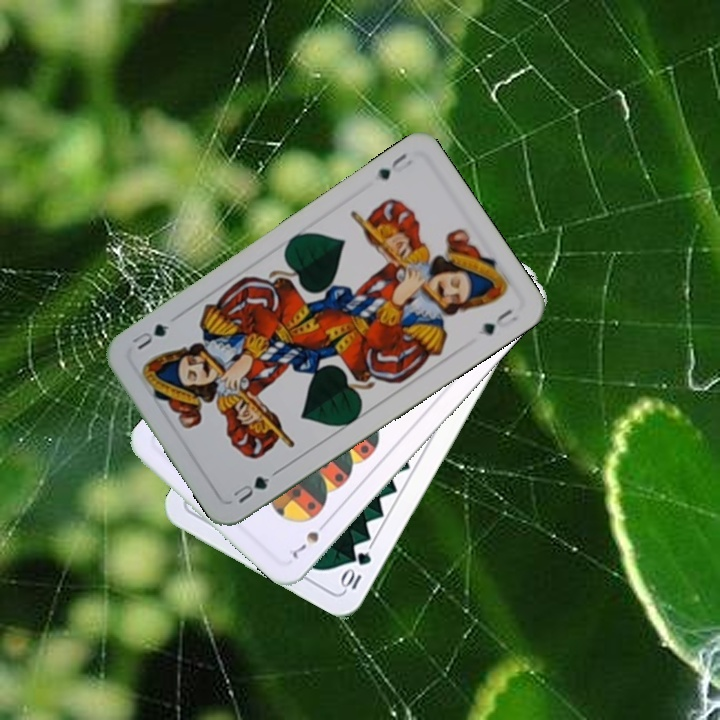G10: (337, 548, 374, 593)
GU: (229, 472, 273, 506), (372, 149, 415, 183)
S7: (285, 516, 331, 564)
